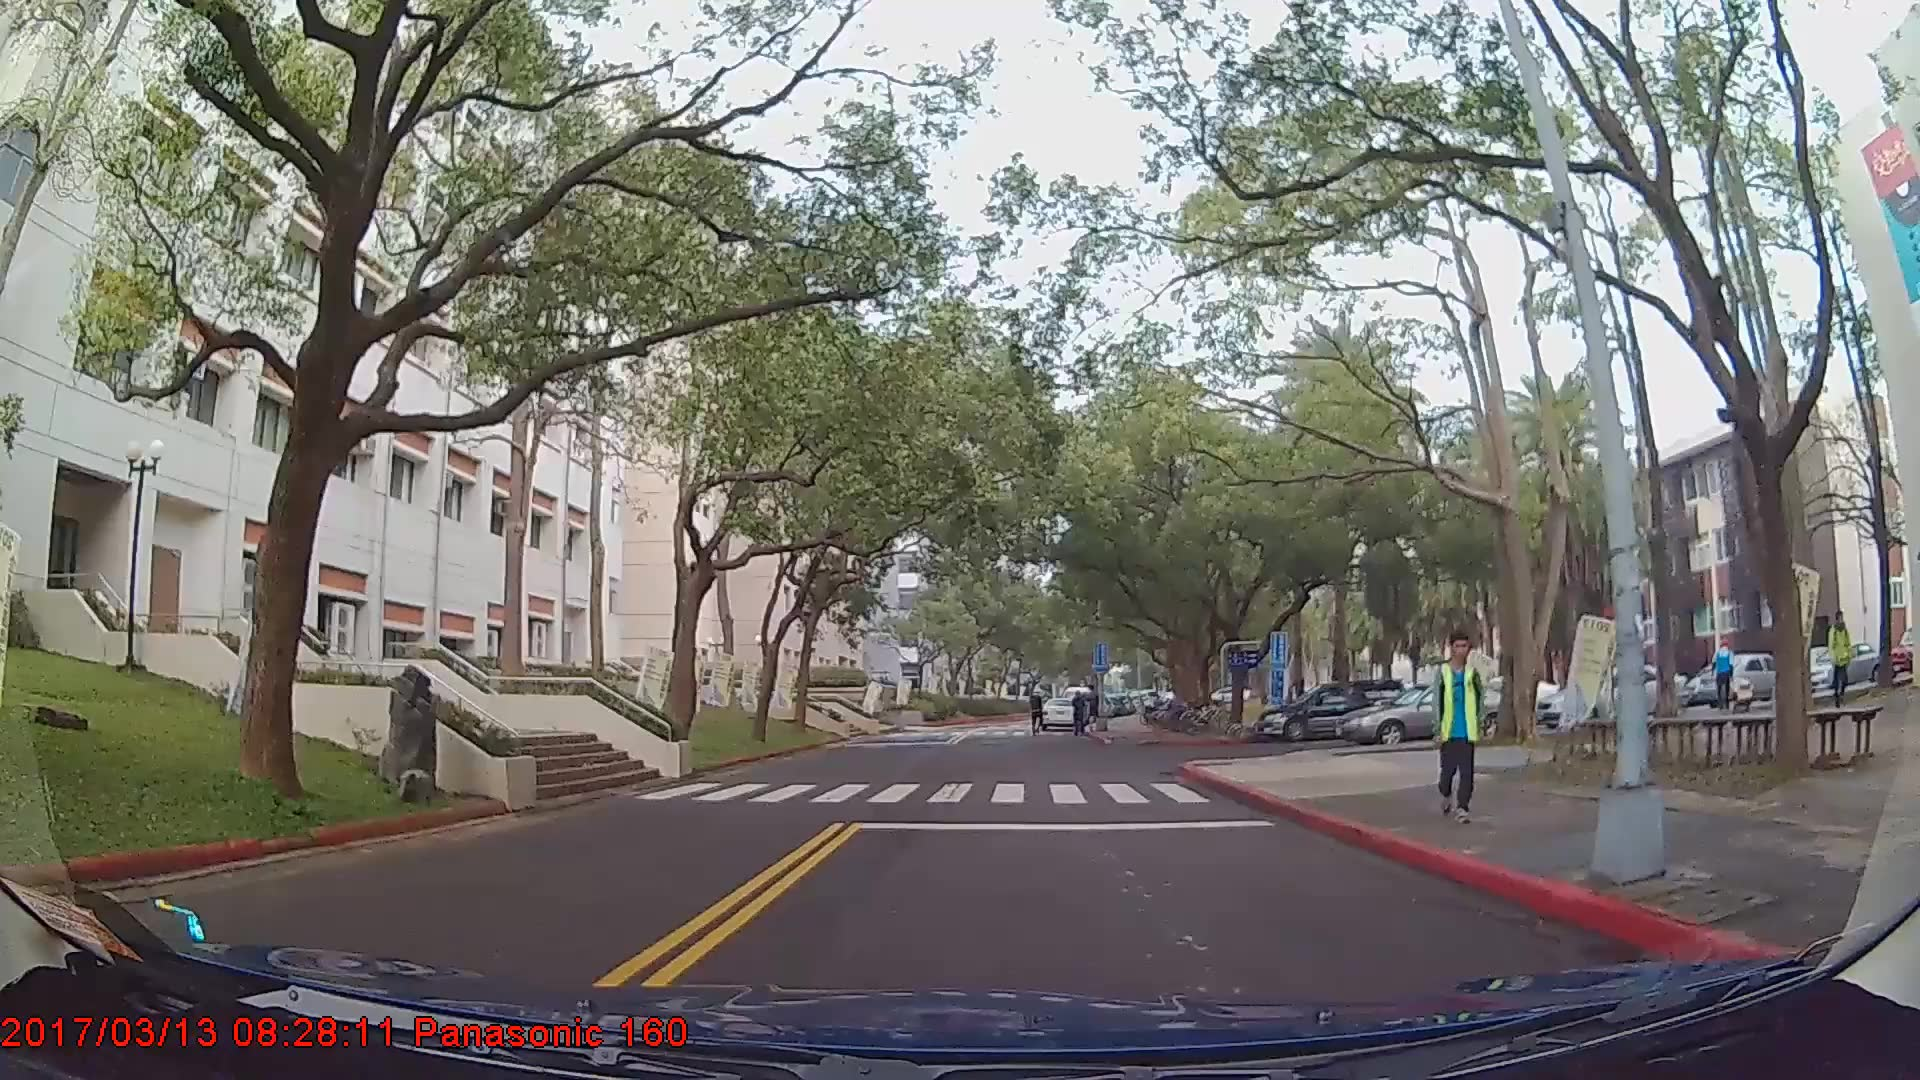pedestrian: (1423, 624, 1487, 817), (1825, 610, 1856, 716), (1710, 625, 1741, 716), (1070, 689, 1090, 734), (1029, 688, 1049, 736)
vehicle: (1336, 682, 1521, 747), (1537, 661, 1689, 730), (1254, 680, 1408, 738), (1689, 648, 1799, 707), (1802, 641, 1889, 690), (1039, 694, 1081, 732)
